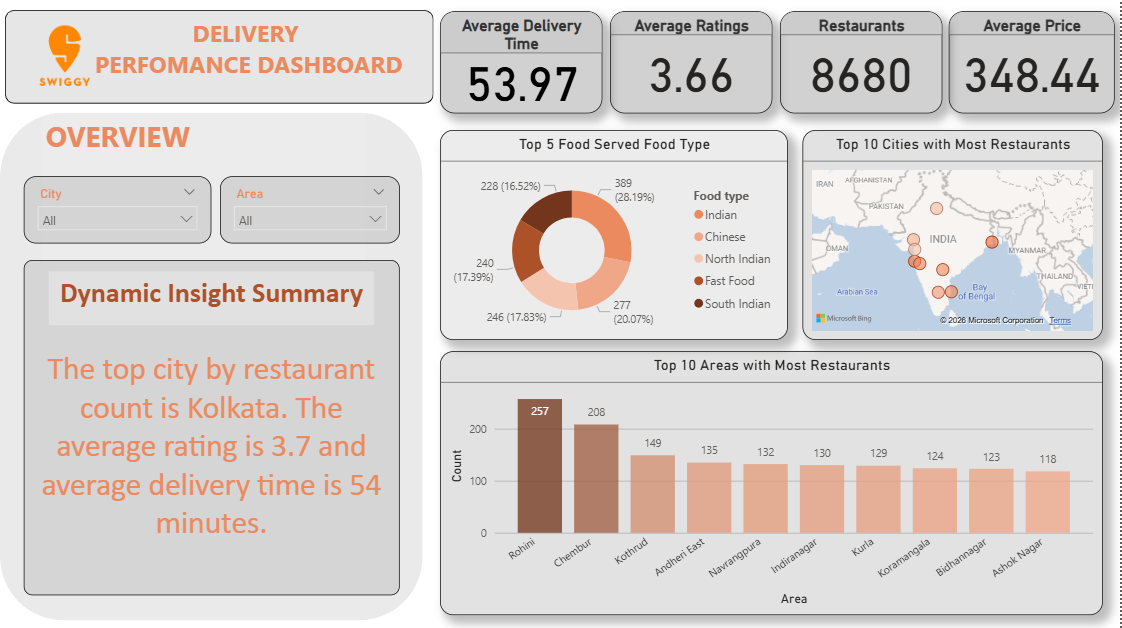

This screenshot's page, from the dashboard's own definition file:
{"tool":"powerbi","page":{"name":"Page 1","canvas":[1280,720],"ordinal":0},"visuals":[{"type":"card","title":"Average Ratings","fields":{"Values":["Avg(swiggy_Data.Avg ratings)"]},"box":[697.1,12.3,185.2,116.6],"z":0},{"type":"columnChart","title":"Top 10 Areas with Most Restaurants","fields":{"Category":["swiggy_Data.Area"],"Y":["CountNonNull(swiggy_Data.ID)"]},"box":[502.2,402.1,757.5,301.9],"z":1000},{"type":"donutChart","title":"Top 5 Food Served Food Type","fields":{"Category":["swiggy_Data.Food type"],"Y":["CountNonNull(swiggy_Data.ID)"]},"box":[502.2,148.2,397.9,240.1],"z":2000},{"type":"map","title":"Top 10 Cities with Most Restaurants","fields":{"Category":["swiggy_Data.City"]},"box":[916.6,148.2,343.1,240.1],"z":3000},{"type":"card","title":"Average Price","fields":{"Values":["Avg(swiggy_Data.Price)"]},"box":[1084.1,12.3,189.4,116.6],"z":4000},{"type":"card","title":"Restaurants","fields":{"Values":["CountNonNull(swiggy_Data.Restaurant)"]},"box":[891.9,12.3,185.2,116.6],"z":5000},{"type":"card","title":"Average Delivery Time ","fields":{"Values":["Avg(swiggy_Data.Delivery time)"]},"box":[502.2,12.3,185.2,116.6],"z":6000},{"type":"shape","box":[5.5,11,489.9,107],"z":7000},{"type":"image","box":[5.5,0,137.2,127.6],"z":8000},{"type":"textbox","box":[98.6,14.3,371.4,112.9],"z":9000},{"type":"shape","box":[0,129,483,580.4],"z":10000},{"type":"textbox","box":[46.7,129,370.5,168.8],"z":11000},{"type":"slicer","fields":{"Values":["swiggy_Data.City"]},"box":[27.4,201.7,214.1,76.8],"z":12000},{"type":"slicer","fields":{"Values":["swiggy_Data.Area"]},"box":[251.1,201.7,205.8,76.8],"z":13000},{"type":"card","title":"Dynamic Insight Summary","fields":{"Values":["swiggy_Data.Dynamic Insight Summary"]},"box":[27.4,297.8,429.5,382.8],"z":13001},{"type":"textbox","box":[56.3,310.1,371.9,61.7],"z":13002}]}

Visuals, with their boxes in screenshot pixels (x1, y1, x2, y2), scaled from the page's 1280x720 canvas onto the 1122x628 screenshot:
"Average Ratings" card: 611/11/773/112
"Top 10 Areas with Most Restaurants" columnChart: 440/351/1104/614
"Top 5 Food Served Food Type" donutChart: 440/129/789/339
"Top 10 Cities with Most Restaurants" map: 803/129/1104/339
"Average Price" card: 950/11/1116/112
"Restaurants" card: 782/11/944/112
"Average Delivery Time " card: 440/11/603/112
shape: 5/10/434/103
image: 5/0/125/111
textbox: 86/12/412/111
shape: 0/113/423/619
textbox: 41/113/366/260
slicer - swiggy_Data.City: 24/176/212/243
slicer - swiggy_Data.Area: 220/176/401/243
"Dynamic Insight Summary" card: 24/260/401/594
textbox: 49/270/375/324
